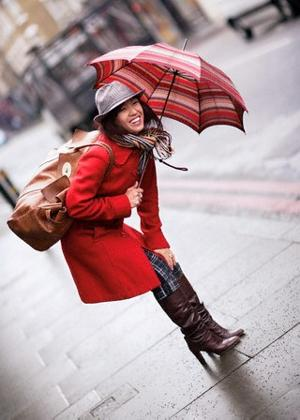person: (61, 82, 246, 365)
